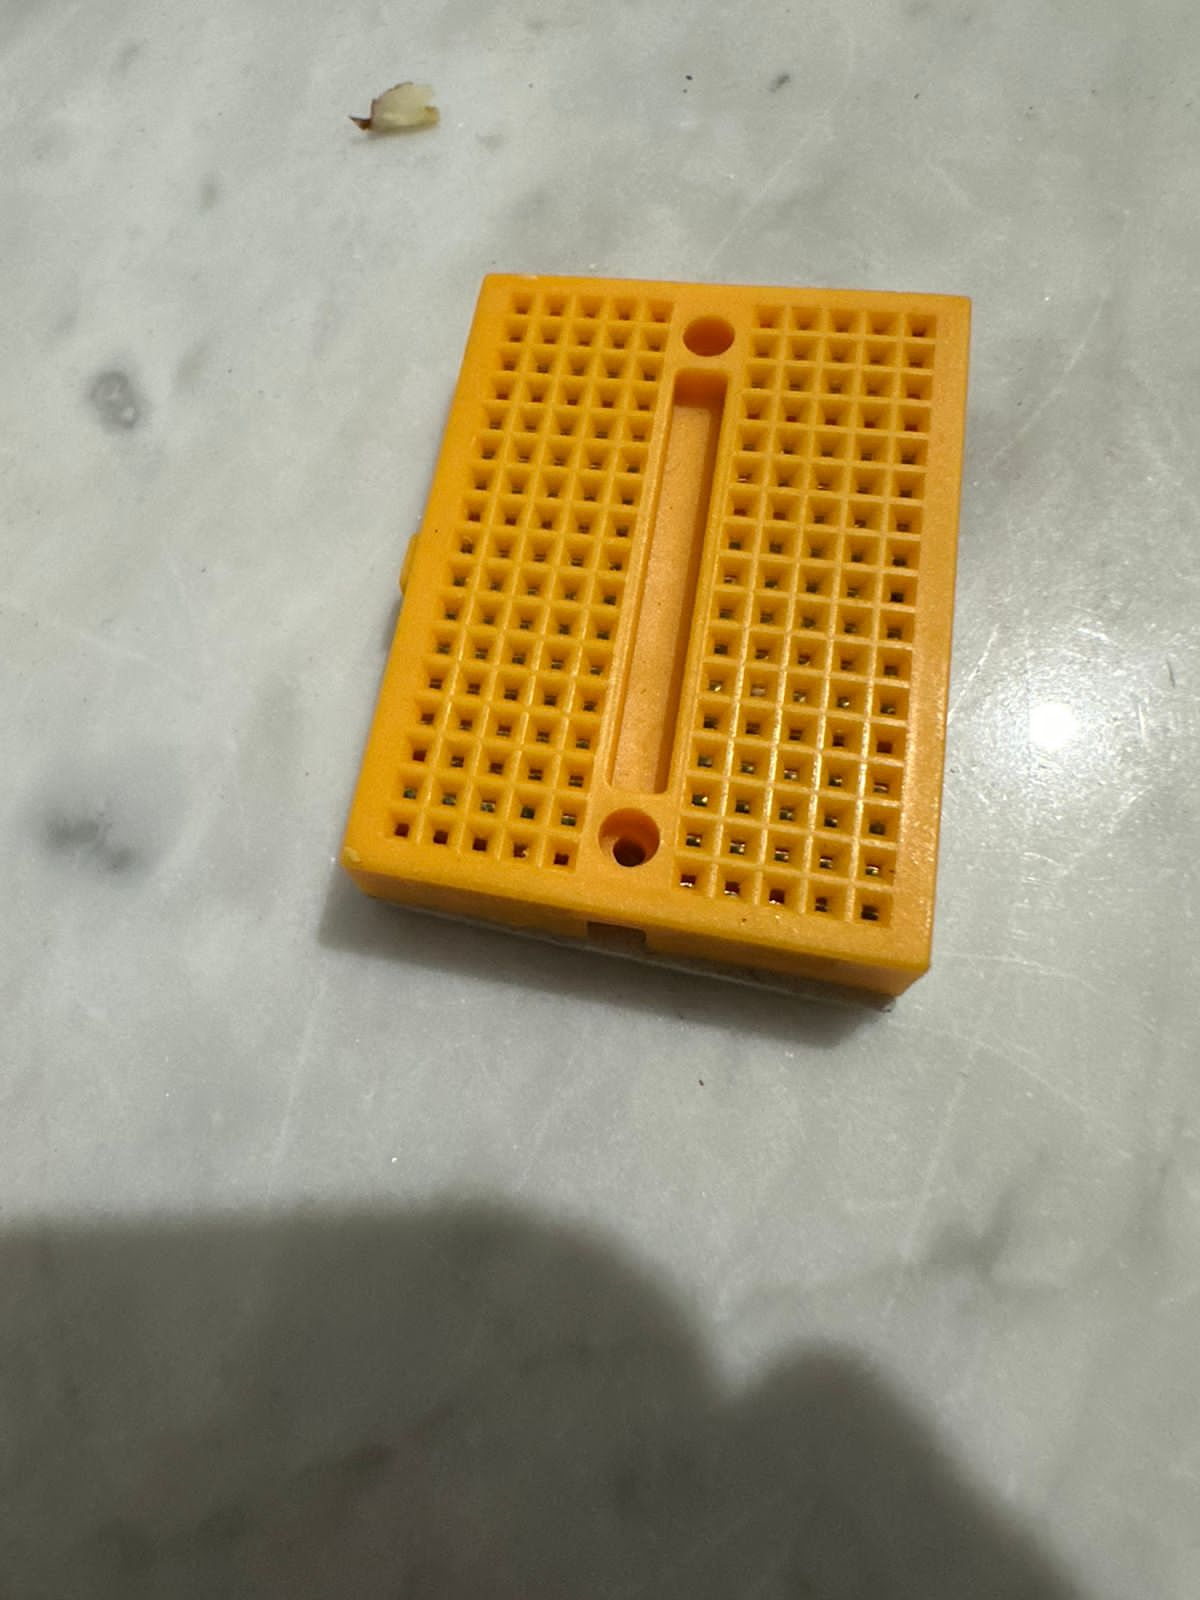breadboard: (337, 253, 984, 1024)
